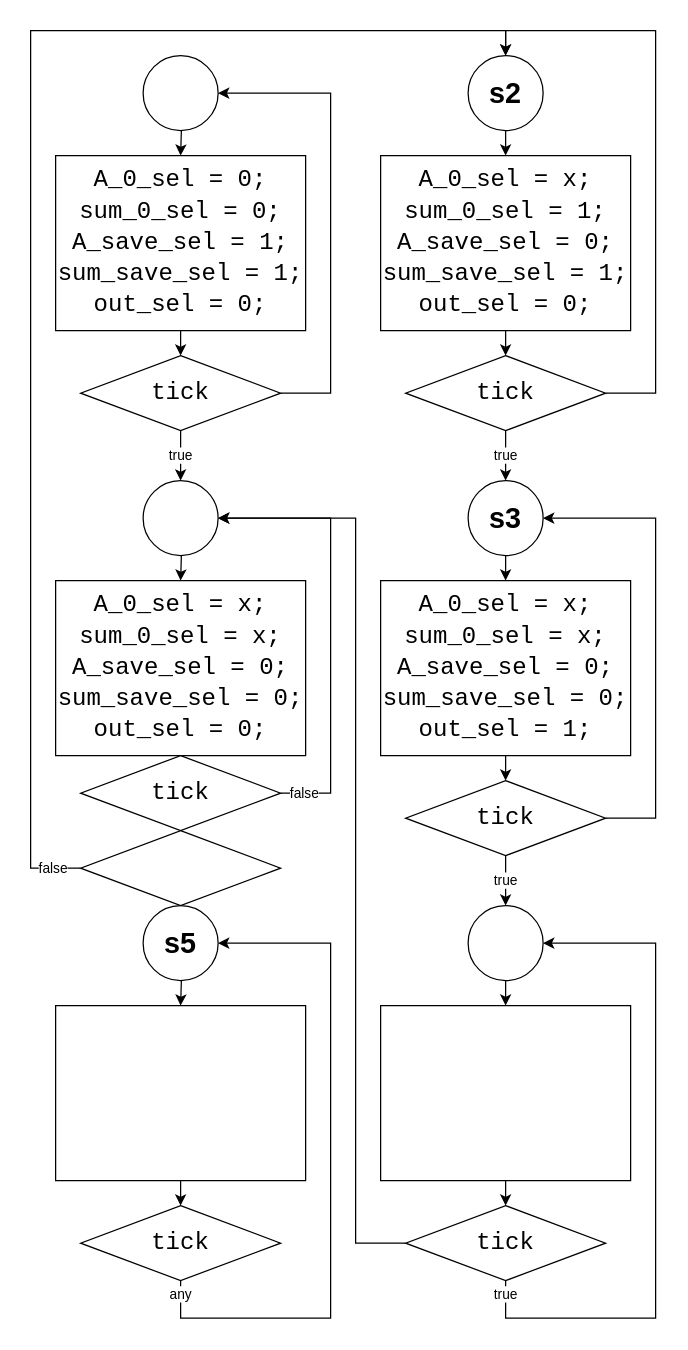
This 688x1350 diagram has some shape labels left out. Here are the shapes that lost their labels. From the top down, the centre of each, then its label:
At pixel 180 92: "s0".
At pixel 180 517: "s1".
At pixel 180 867: "comp".
At pixel 505 942: "s4".
At pixel 180 1092: "A_0_sel = 0 ; sum_0_sel = 0 ; A_save_sel = 0 ; sum_save_sel = 0 ; out_sel = 0 ;".
At pixel 505 1092: "A_0_sel = 1 ; sum_0_sel = x ; A_save_sel = 1 ; sum_save_sel = 0 ; out_sel = 0 ;".
